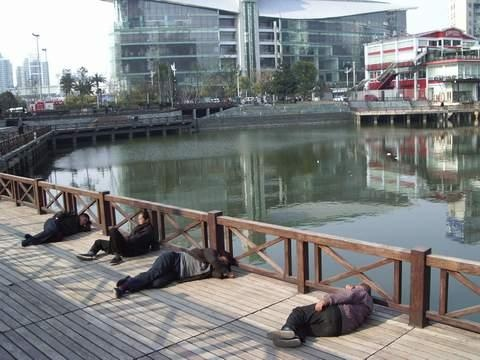falling: (13, 204, 99, 253)
